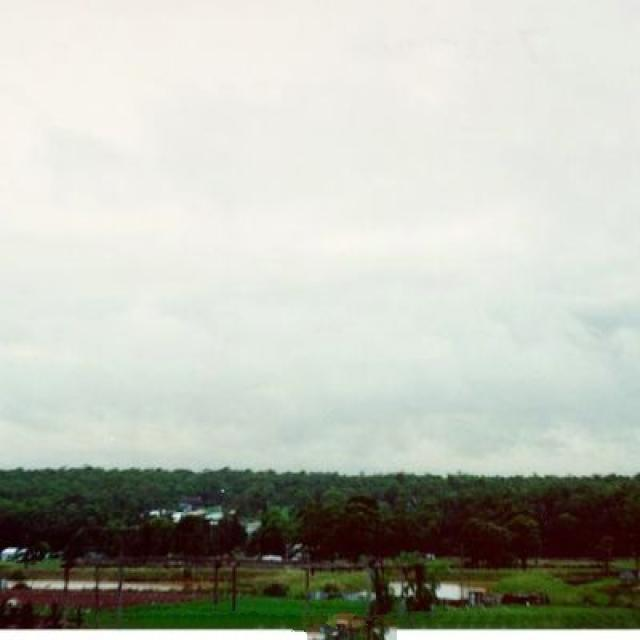St: (1, 18, 640, 413)
